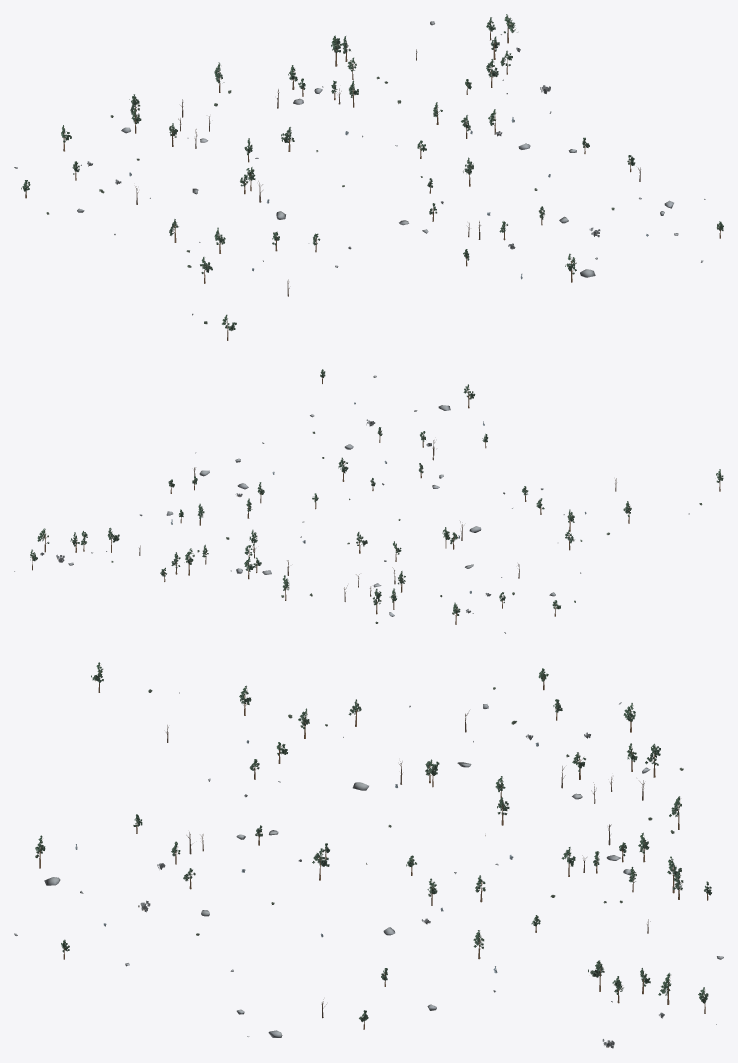
Rendered from frost_land_scatter_c19_12.glb.
3 renders of one model, top to bottom at view 1: azimuth 30°, elevation 25°; view 2: azimuth 150°, elevation 25°; view 3: azimuth 270°, elevation 25°, orthographic. The views are drawn at different scales.
Visible parts, largest first — view 1: frost_land_scatter_c19_12; view 2: frost_land_scatter_c19_12; view 3: frost_land_scatter_c19_12.
Boxes of the visible parts, bbox=[...] form: frost_land_scatter_c19_12: bbox=[14, 14, 723, 340]; frost_land_scatter_c19_12: bbox=[14, 369, 723, 633]; frost_land_scatter_c19_12: bbox=[14, 662, 723, 1048].
Bounding box in the file's own units: 254 × 36.1 × 247.
